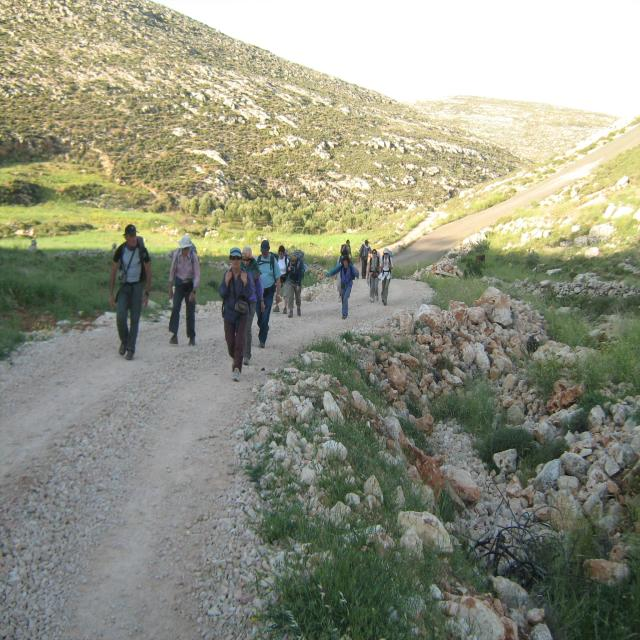body: (108, 222, 153, 362), (218, 246, 253, 382), (168, 235, 200, 347), (238, 245, 266, 367), (254, 238, 282, 349), (285, 248, 306, 319), (339, 255, 359, 320), (272, 244, 290, 315), (379, 247, 394, 306), (366, 248, 381, 303), (358, 239, 373, 279), (334, 248, 344, 302), (340, 239, 352, 260)
